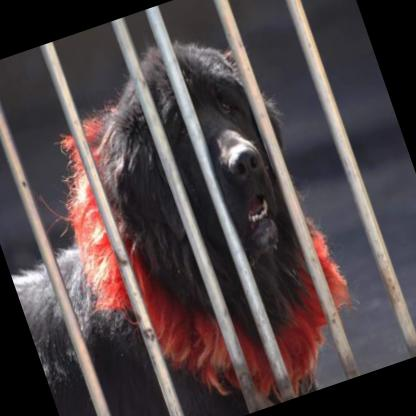Tibetan_mastiff: (0, 10, 371, 416)
